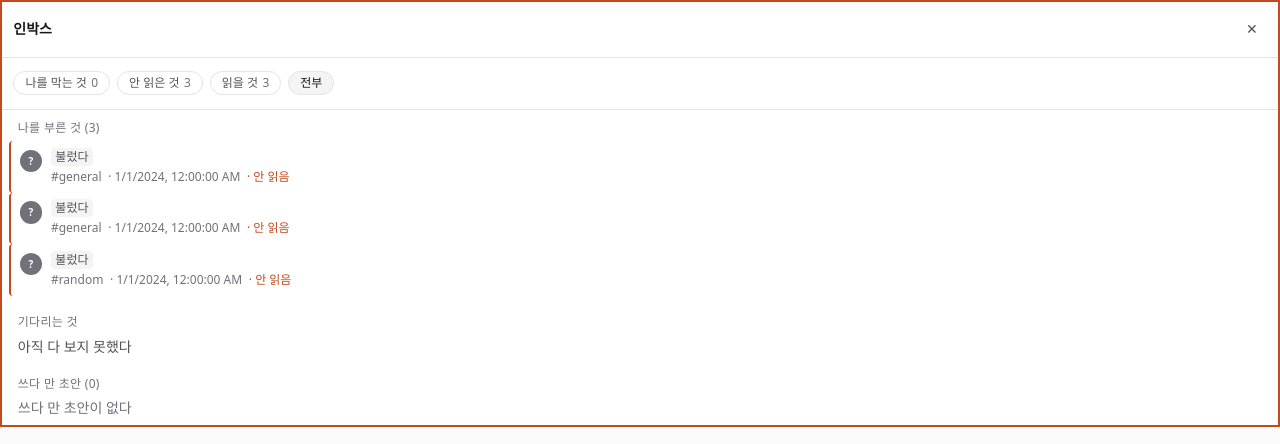
Test: Inbox 줄이 무엇을 말하는가 (#488 C2) › 줄을 누르면 그 채널의 줄이 곧바로 읽음이 된다
This screenshot has width=1280, height=444.
Expected: the text with test id "inbox-unread-1" is shown, x1=247 y1=168 x2=290 y2=186
What coordinates should you click on to do the following:
click the button with test id "inbox-entry-1"
I would click on:
 (72, 157)
Its box is x1=9 y1=141 x2=1271 y2=193.
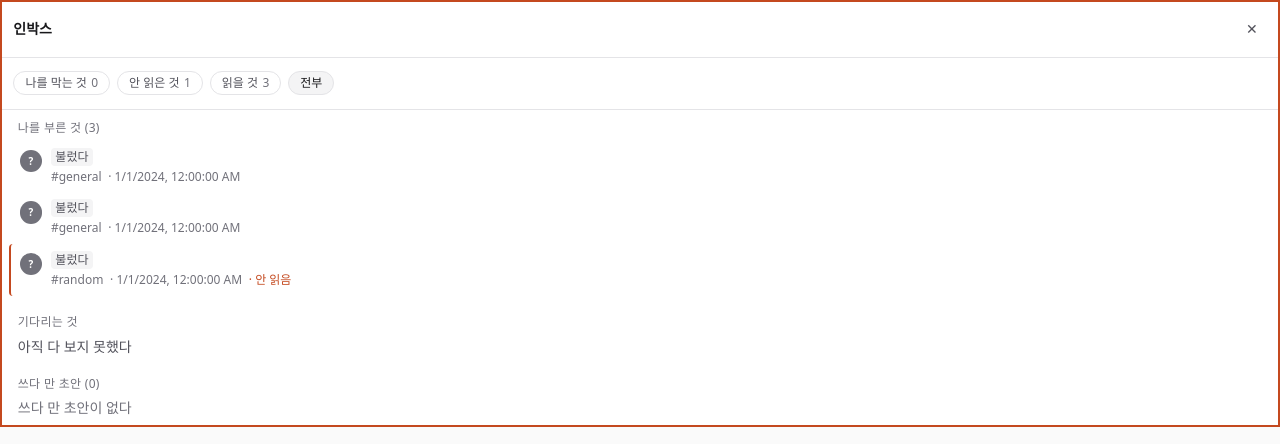
Now the text with test id "inbox-unread-1" is gone
